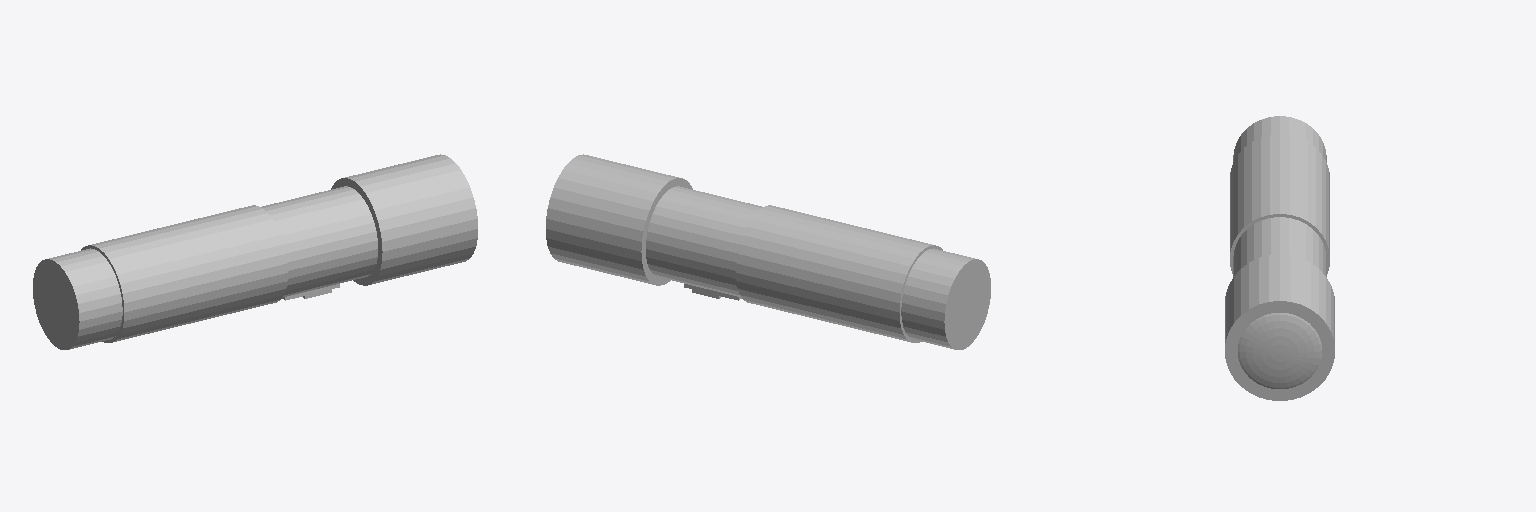
Rendered from lanterna.obj.
The picture shows the model from 3 angles: view 1: azimuth 30°, elevation 25°; view 2: azimuth 150°, elevation 25°; view 3: azimuth 270°, elevation 25°; orthographic projection.
Parts seen in each view (by area): view 1: Cylinder.001; view 2: Cylinder.001; view 3: Cylinder.001.
Part boxes in pixels (x1,y1,x2,y2): Cylinder.001: (33,154,477,349); Cylinder.001: (546,154,990,349); Cylinder.001: (1225,116,1334,400).
Bounding box in the file's own units: 9.85 × 2.36 × 2.36.